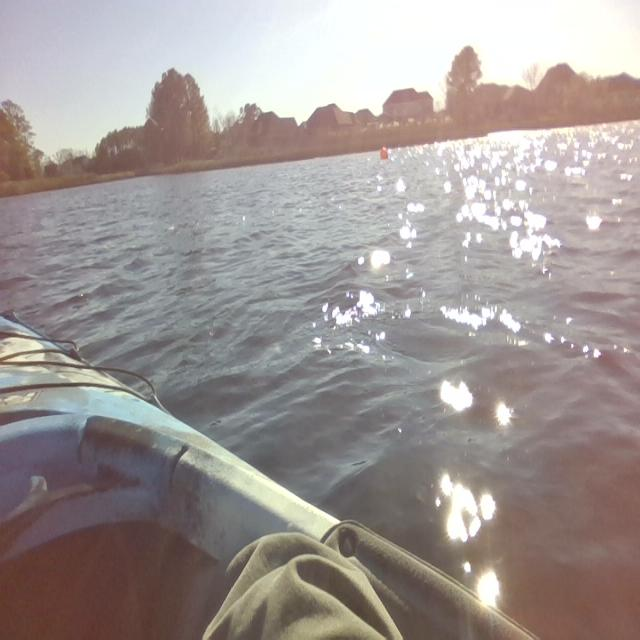Buoy: (378, 141, 392, 165)
